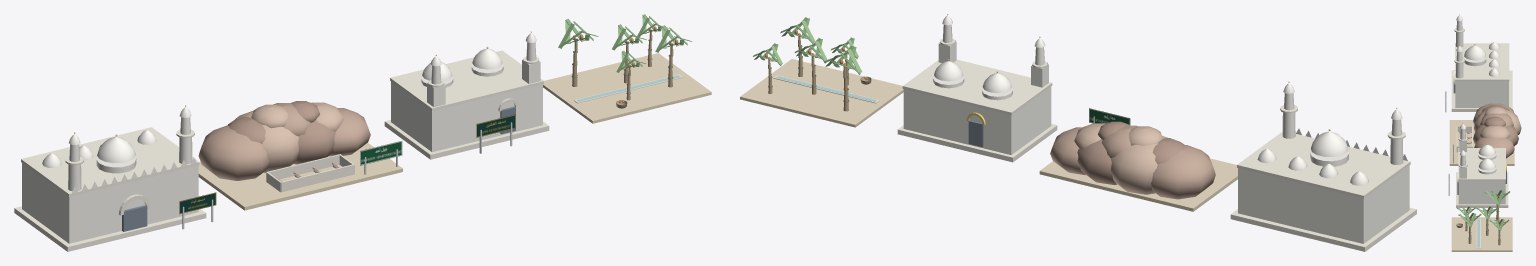
Rendered from kit-50-ziarah-madinah.glb.
3 renders of one model, left to right at view 1: azimuth 30°, elevation 25°; view 2: azimuth 150°, elevation 25°; view 3: azimuth 270°, elevation 25°, orthographic. The views are drawn at different scales.
Parts seen in each view (by area): view 1: Ziarah_MasjidQuba, Ziarah_JabalUhud, Ziarah_MasjidQiblatain, Ziarah_KebunKurma; view 2: Ziarah_MasjidQuba, Ziarah_MasjidQiblatain, Ziarah_JabalUhud, Ziarah_KebunKurma; view 3: Ziarah_MasjidQuba, Ziarah_MasjidQiblatain, Ziarah_JabalUhud, Ziarah_KebunKurma.
Part boxes in pixels (left/top/right/bottom): Ziarah_MasjidQuba: left=14, top=105, right=216, bottom=251; Ziarah_JabalUhud: left=198, top=101, right=402, bottom=210; Ziarah_MasjidQiblatain: left=384, top=31, right=549, bottom=159; Ziarah_KebunKurma: left=543, top=14, right=711, bottom=123; Ziarah_MasjidQuba: left=1230, top=81, right=1416, bottom=251; Ziarah_MasjidQiblatain: left=897, top=14, right=1057, bottom=162; Ziarah_JabalUhud: left=1039, top=108, right=1237, bottom=211; Ziarah_KebunKurma: left=740, top=17, right=903, bottom=127; Ziarah_MasjidQuba: left=1445, top=14, right=1512, bottom=112; Ziarah_MasjidQiblatain: left=1448, top=123, right=1508, bottom=207; Ziarah_JabalUhud: left=1449, top=103, right=1521, bottom=165; Ziarah_KebunKurma: left=1451, top=190, right=1512, bottom=251.
Size of the model in its own units: 48.75 by 8.34 by 8.81.
17 materials, 3 textured.
